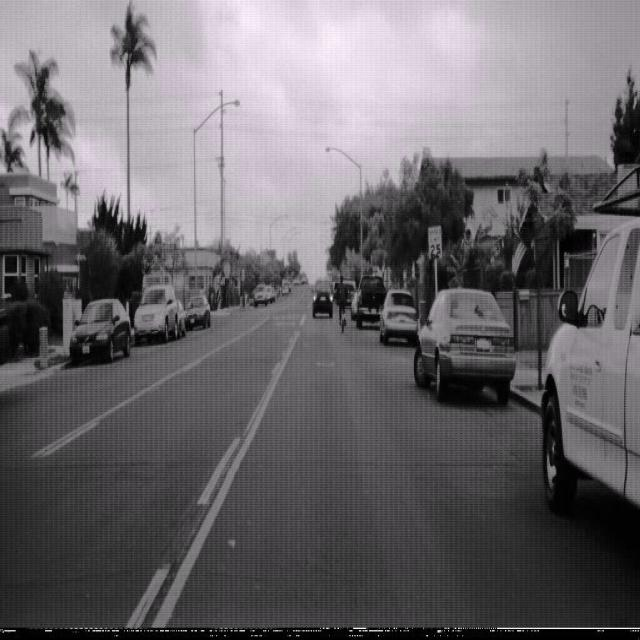speedLimit25: (427, 223, 443, 260)
